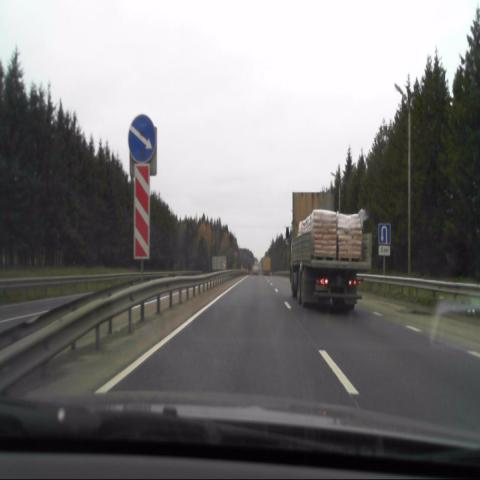6_3_1: (378, 221, 391, 246)
